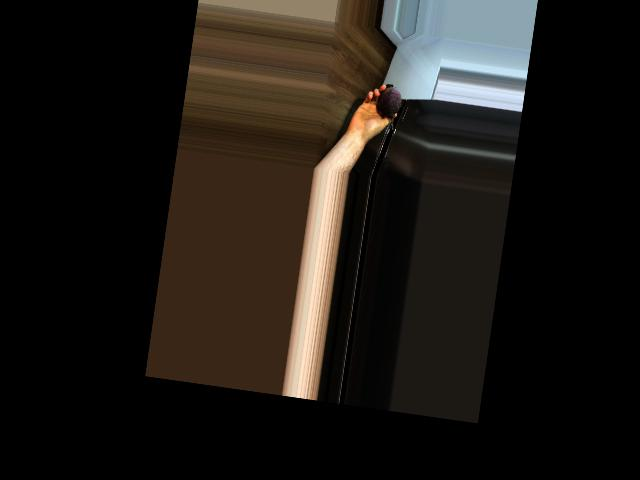beet: (375, 82, 403, 129)
